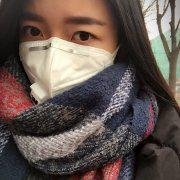OK: (16, 8, 114, 106)
